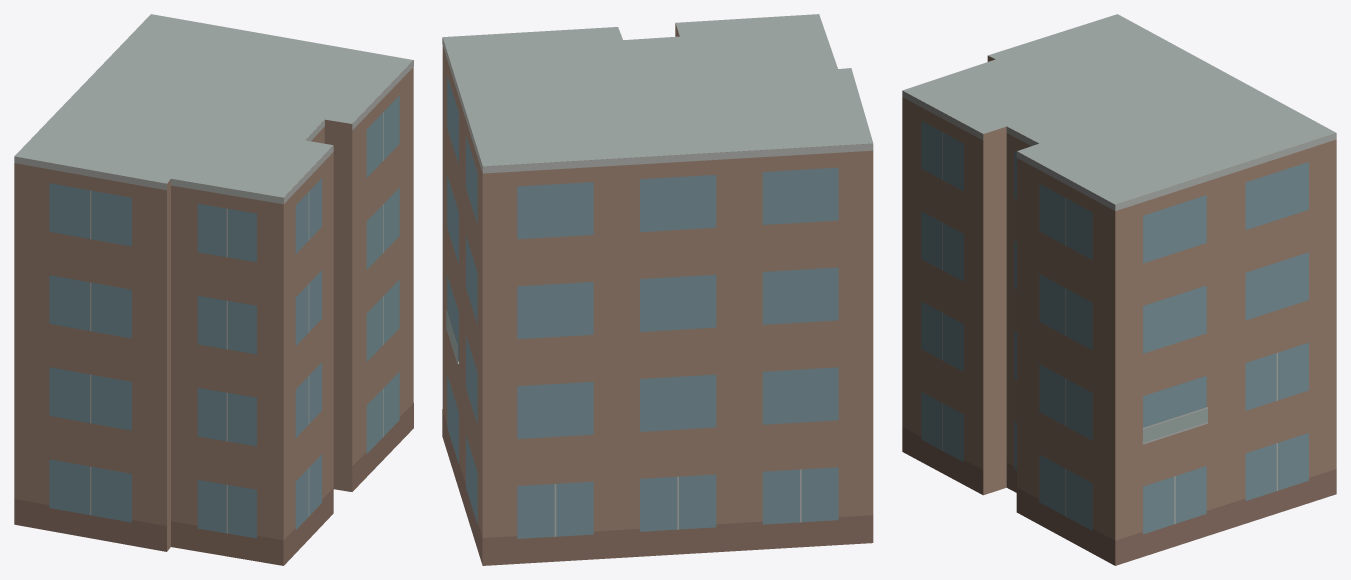
The model's file is survey-upis-32548983.glb.
3 views of the same model, side by side, from view 1: azimuth 30°, elevation 25°; view 2: azimuth 150°, elevation 25°; view 3: azimuth 270°, elevation 25° (orthographic). The views are drawn at different scales.
Visible parts, largest first — view 1: survey-upis-32548983.tmp; view 2: survey-upis-32548983.tmp; view 3: survey-upis-32548983.tmp.
Part boxes in pixels (bbox=[...]): survey-upis-32548983.tmp: bbox=[14, 14, 413, 565]; survey-upis-32548983.tmp: bbox=[442, 14, 873, 565]; survey-upis-32548983.tmp: bbox=[902, 14, 1336, 565].
Bounding box in the file's own units: 15.29 × 13.5 × 14.72.
